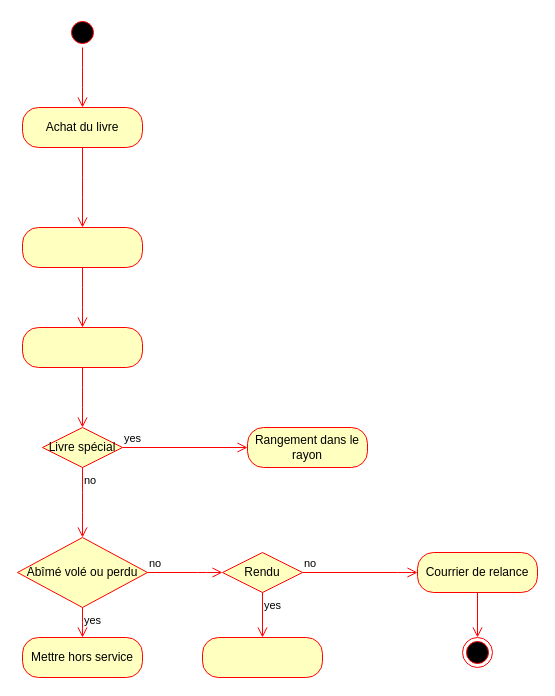
The diagram is 555 pixels wide and 696 high, and some of its shapes have lost their labels. Each missing label, with the centre of its shape:
"Création fiche livre" belongs at point (82, 247).
"Insertion fiche livre dans la BDD" belongs at point (82, 347).
"Suppression fiche de prêt et remise en service" belongs at point (262, 657).
